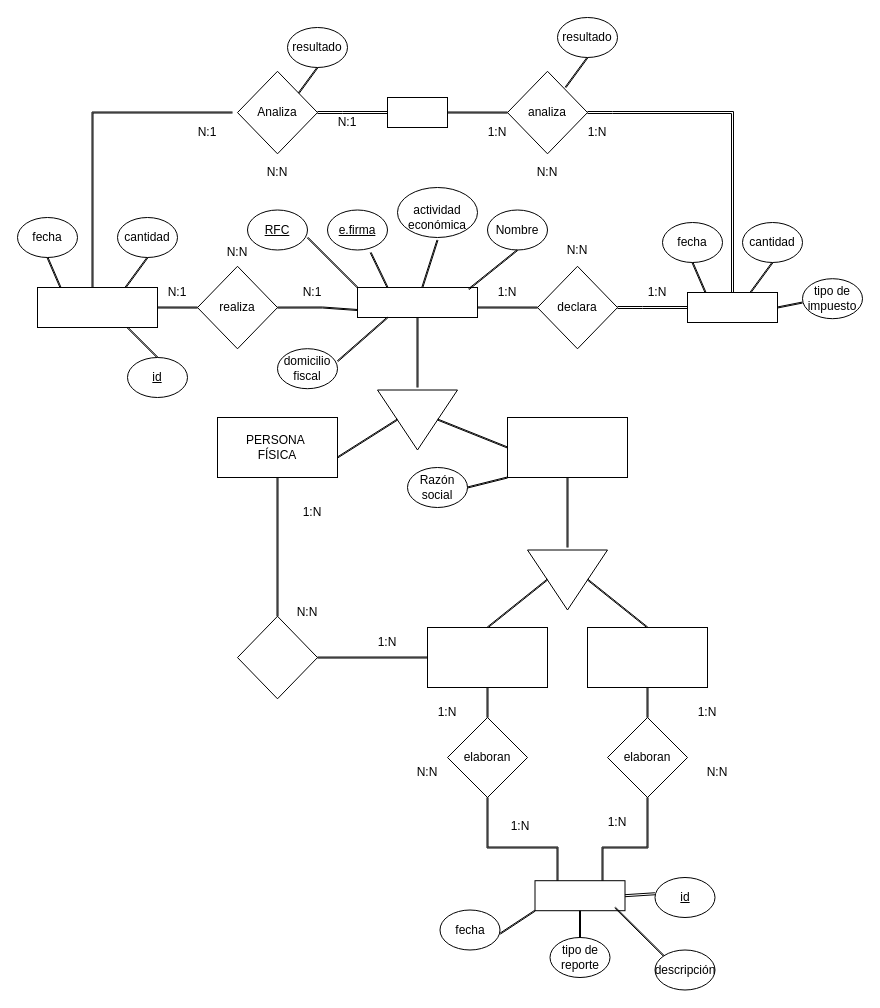
Some shapes in this 880 by 1008 pixel diagram are drawn without their labels. The centre of each missing label's shape, as x and y in pixels:
"ACTIVIDADES VULNERABLES" goes at (x=487, y=657).
"CONTRIBUYENTE" goes at (x=417, y=302).
"ENTIDAD FINANCIERA OBLIGADA" goes at (x=647, y=657).
"IA" goes at (x=417, y=112).
"IMPUESTOS" goes at (x=732, y=307).
"PERSONA MORAL" goes at (x=567, y=447).
"puede realizar" goes at (x=277, y=657).
"REPORTE A LA UIF" goes at (x=579, y=895).
"TRANSACCIONES" goes at (x=97, y=307).
